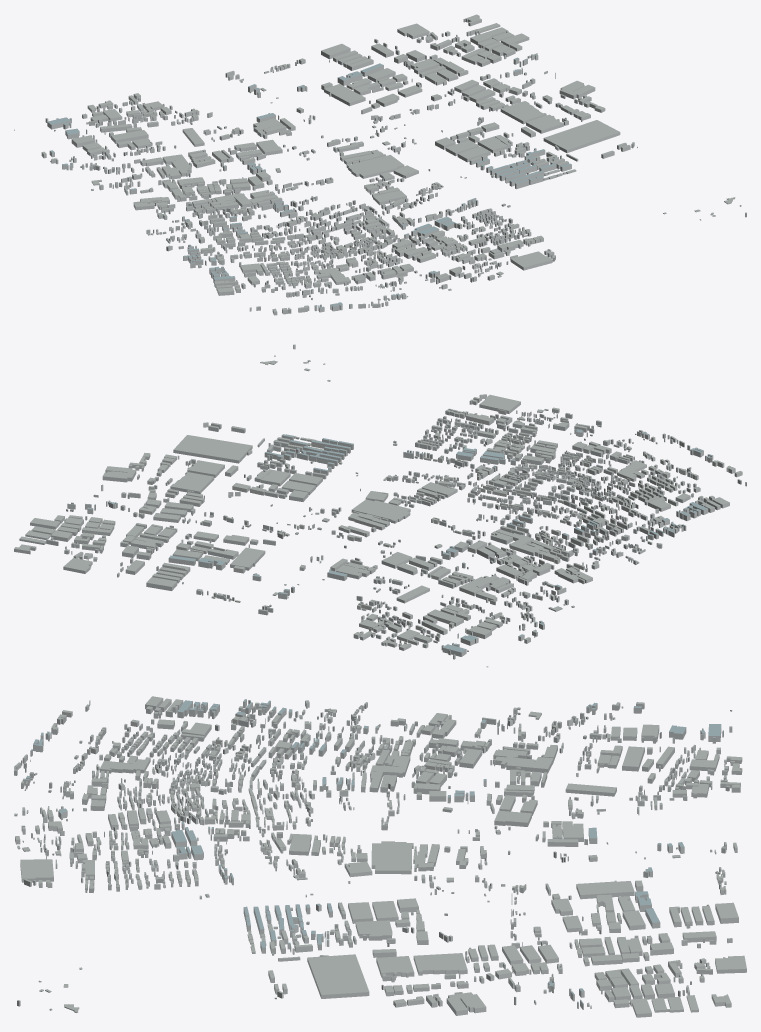
File: far.glb
3 renders of one model, top to bottom at view 1: azimuth 30°, elevation 25°; view 2: azimuth 150°, elevation 25°; view 3: azimuth 270°, elevation 25°, orthographic. The views are drawn at different scales.
Size of the model in its own units: 2181 by 25.1 by 2131.
